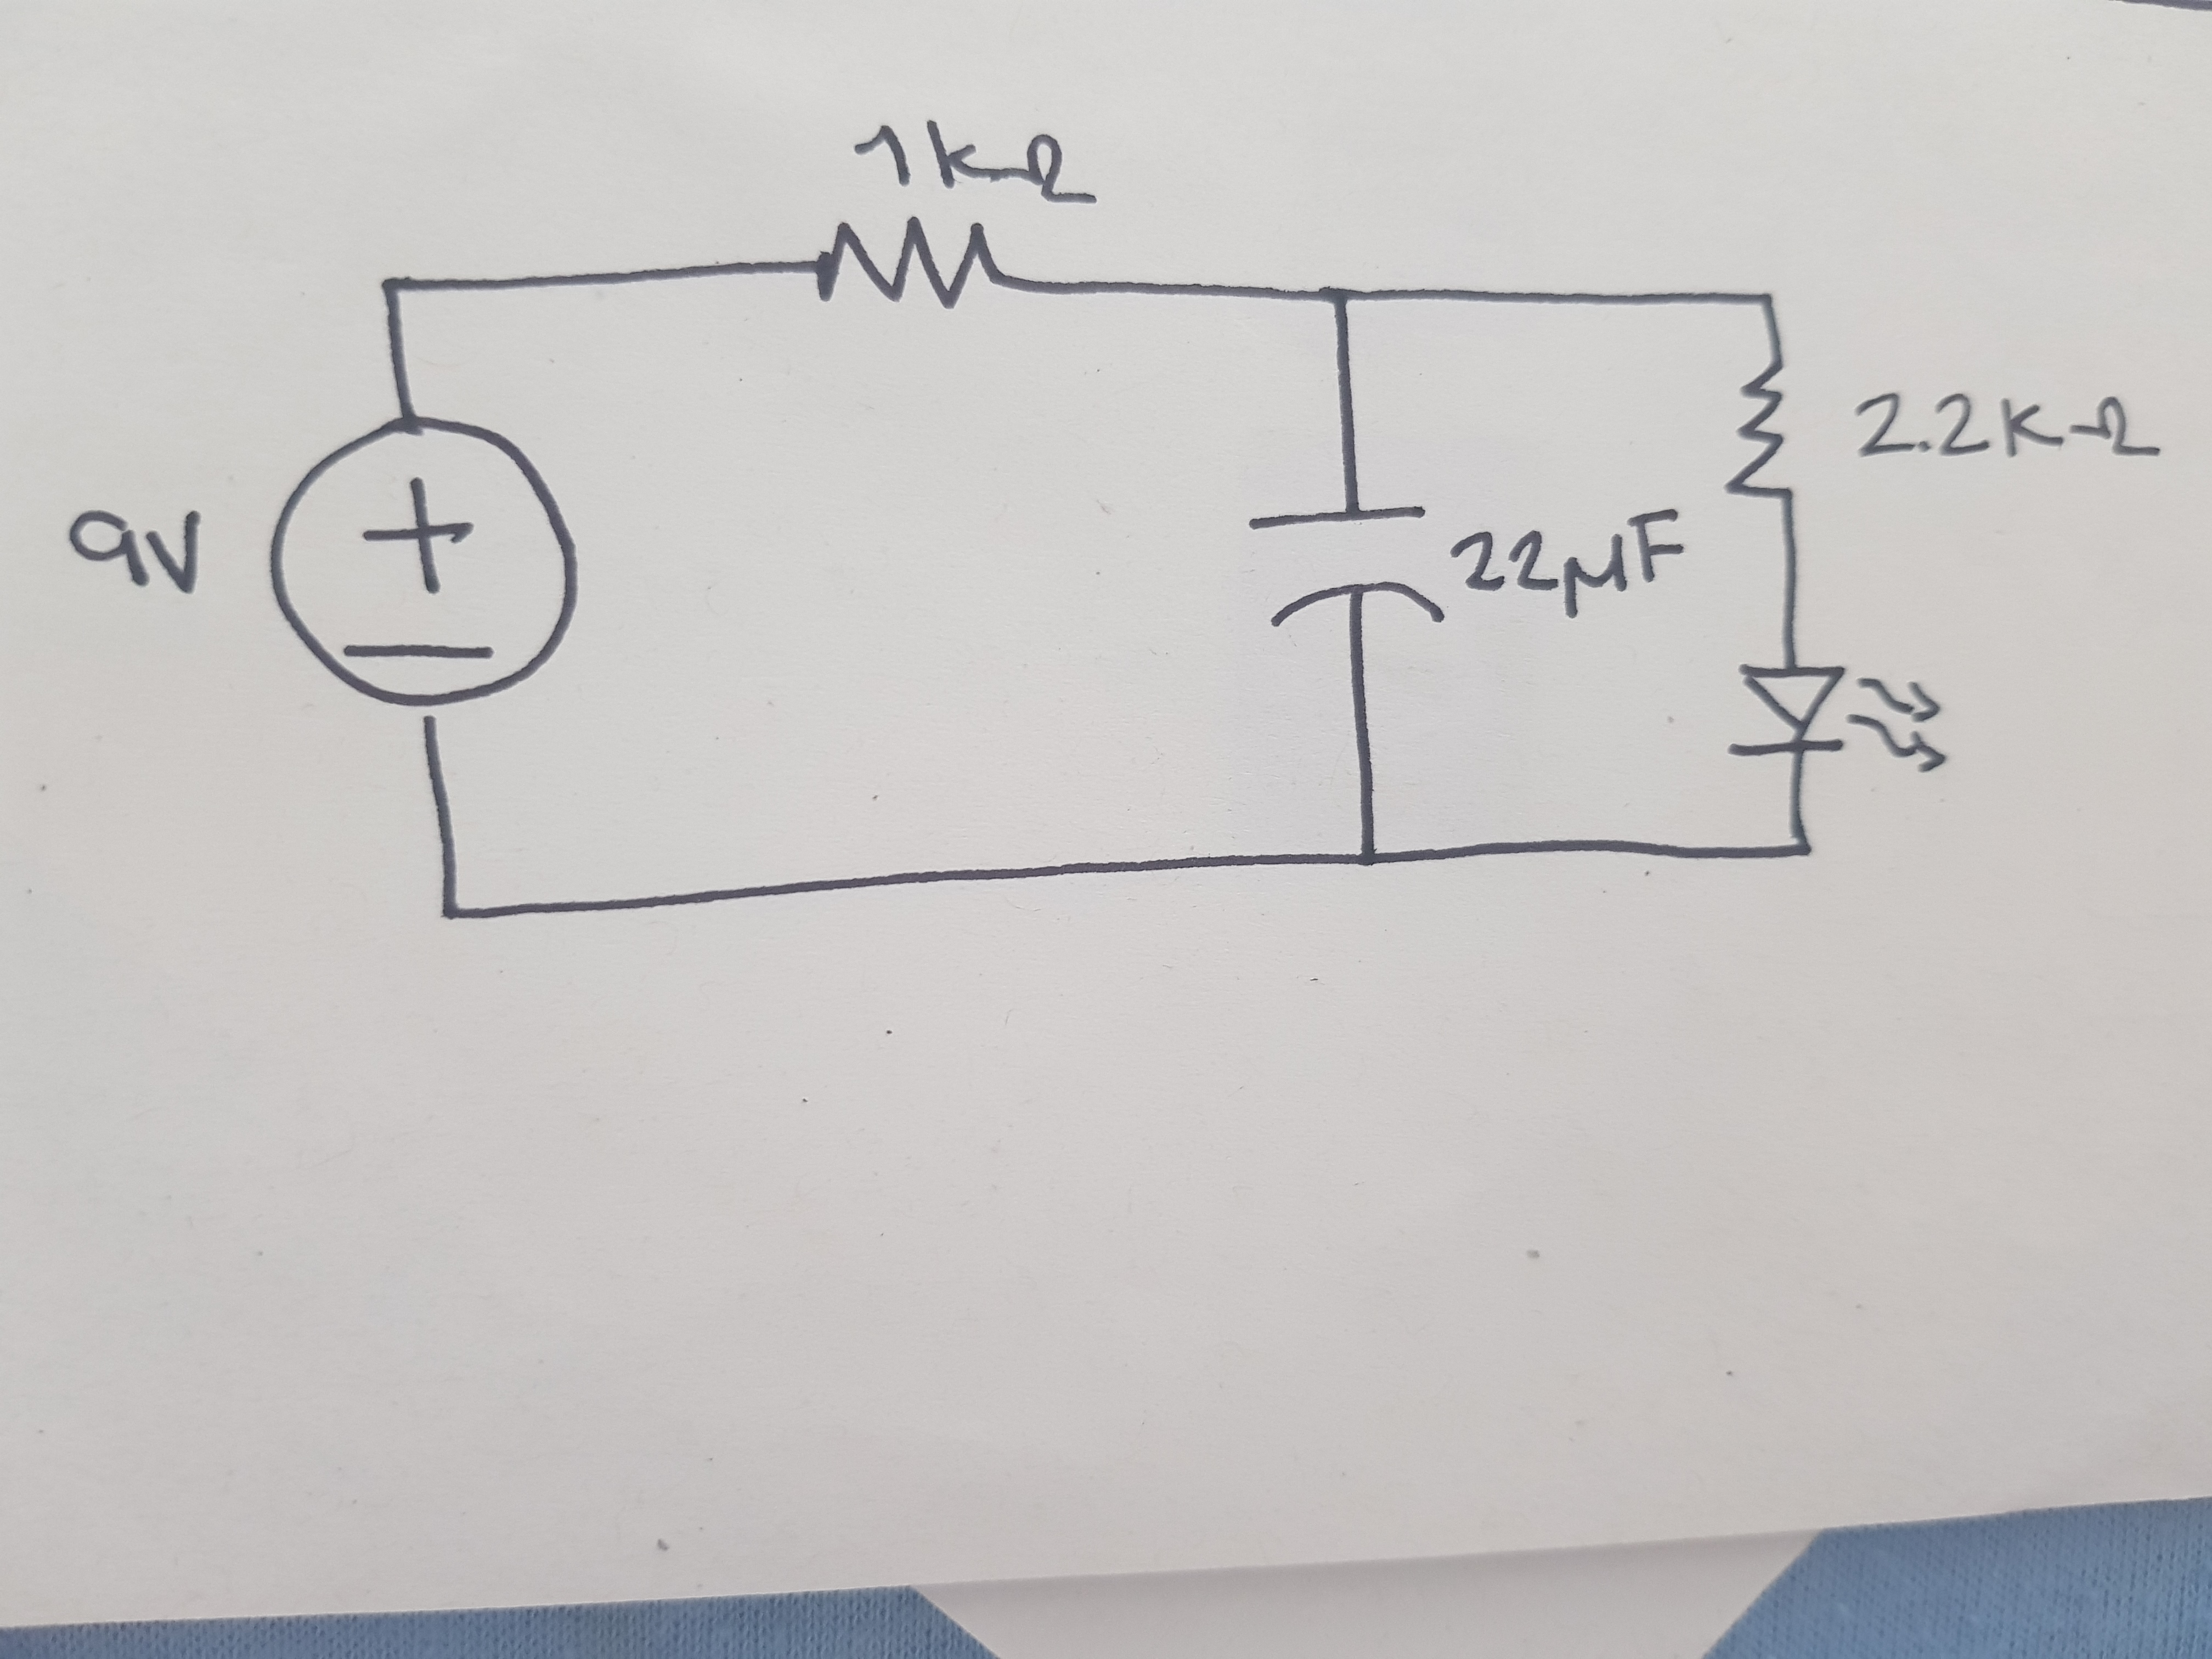capacitor.unpolarized: (1238, 491, 1461, 643)
diode.light_emitting: (1719, 647, 1961, 775)
junction: (1338, 828, 1400, 889), (416, 889, 479, 946), (1313, 275, 1374, 331), (364, 265, 418, 310), (1777, 828, 1825, 868), (1743, 282, 1794, 315)
resistor: (803, 211, 1043, 319), (1717, 371, 1818, 500)
text: (1432, 507, 1693, 617), (1846, 382, 2165, 469), (848, 112, 1101, 213), (63, 502, 212, 605)
voltage.dc: (251, 404, 601, 725)
